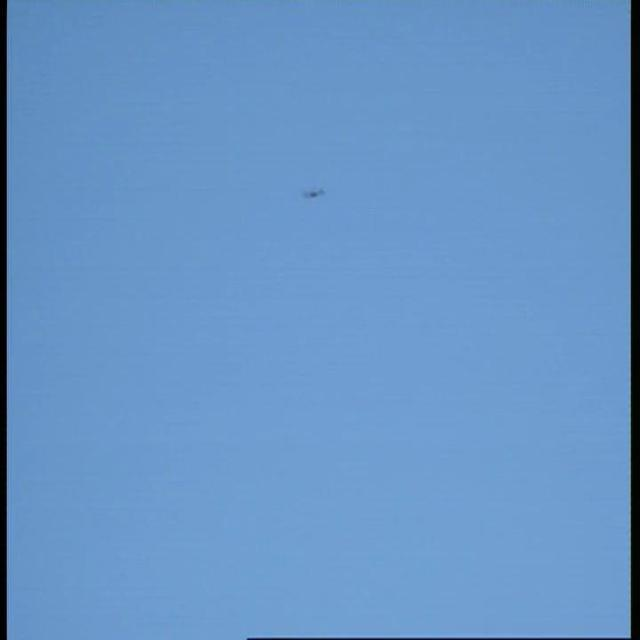drone: (297, 178, 331, 206)
